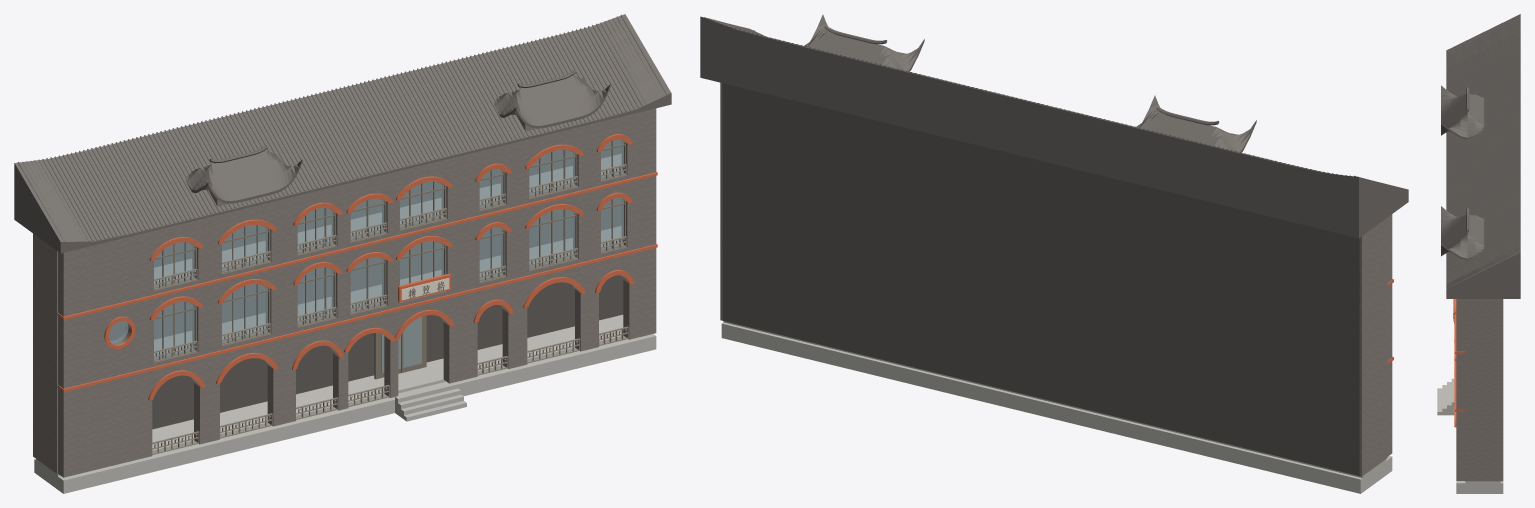
File: changning-st-johns-gezhi-science-hall-web.glb
3 renders of one model, left to right at view 1: azimuth 30°, elevation 25°; view 2: azimuth 150°, elevation 25°; view 3: azimuth 270°, elevation 25°, orthographic. The views are drawn at different scales.
Visible parts, largest first — view 1: 圣约翰大学科学馆（格致楼42号）西院券廊; view 2: 圣约翰大学科学馆（格致楼42号）西院券廊; view 3: 圣约翰大学科学馆（格致楼42号）西院券廊.
Boxes of the visible parts, <box> form: 圣约翰大学科学馆（格致楼42号）西院券廊: <box>14,14,671,493</box>; 圣约翰大学科学馆（格致楼42号）西院券廊: <box>700,14,1408,493</box>; 圣约翰大学科学馆（格致楼42号）西院券廊: <box>1437,14,1520,493</box>.
Size of the model in its own units: 33.85 by 16.11 by 4.96.
Materials: 9 (2 with a texture image).
